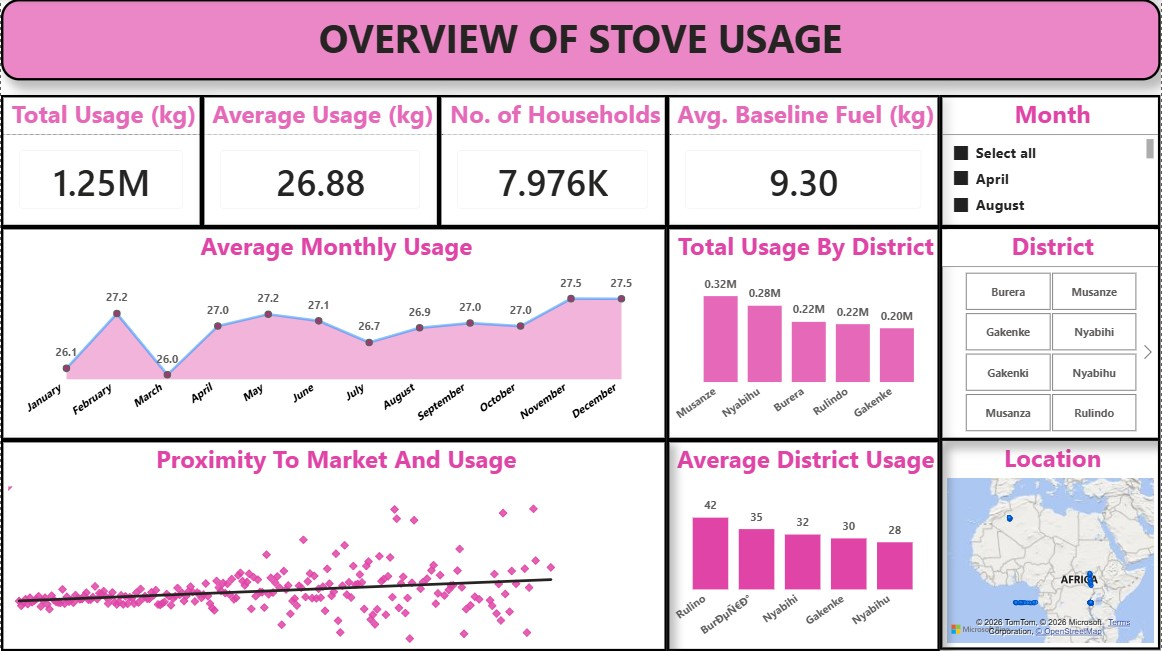

The page's visual inventory and layout, read from the dashboard file:
{"tool":"powerbi","page":{"name":"Dashboard","canvas":[1280,720],"ordinal":0},"visuals":[{"type":"textbox","box":[0,0,1280.5,90],"z":0},{"type":"cardVisual","title":"Total Usage (kg)","fields":{"Data":["Sum(stove_usage_fact.usage)"]},"box":[0,106,222,145.8],"z":1000},{"type":"cardVisual","title":"Average Usage (kg)","fields":{"Data":["Avg(stove_usage_fact.usage)"]},"box":[222,106,261.7,145.8],"z":2000},{"type":"cardVisual","title":"No. of Households","fields":{"Data":["Count(stove_usage_fact.household_id)"]},"box":[483.7,106,251.8,145.8],"z":3000},{"type":"cardVisual","title":"Avg. Baseline Fuel (kg)","fields":{"Data":["Avg(household.baseline_fuel_kg_person_week)"]},"box":[735.5,106,301.5,145.8],"z":4000},{"type":"lineChart","title":"Average Monthly Usage","fields":{"Category":["date.Date.Variation.Date Hierarchy.Month"],"Y2":["Avg(stove_usage_fact.usage)"]},"box":[0,251.8,735.5,235.2],"z":5000},{"type":"clusteredColumnChart","title":"Total Usage By District","fields":{"Category":["location.district"],"Y":["Sum(stove_usage_fact.usage)"]},"box":[735.5,251.8,301.5,235.2],"z":6000},{"type":"map","title":"Location","fields":{"Y":["location.latitude"],"X":["location.longitude"]},"box":[1037,485.3,243.5,233.6],"z":7000},{"type":"slicer","title":"Month","fields":{"Values":["date.Month"]},"box":[1037,106,243.5,145.8],"z":8000},{"type":"slicer","title":"District","fields":{"Values":["location.district"]},"box":[1037,251.8,243.5,235.2],"z":9000},{"type":"clusteredColumnChart","title":"Average District Usage","fields":{"Category":["location.district"],"Y":["Avg(stove_usage_fact.usage)"]},"box":[735,487,301,233],"z":10000},{"type":"scatterChart","title":"Proximity To Market And Usage","fields":{"X":["location.distance_to_market_km"],"Y":["Avg(stove_usage_fact.usage)"]},"box":[0,487,735,233],"z":11000}]}

Visuals, with their boxes in screenshot pixels (x1, y1, x2, y2), scaled from the page's 1280x720 canvas onto the 1162x651 screenshot:
textbox: 0,0,1161,81
"Total Usage (kg)" cardVisual: 0,96,202,228
"Average Usage (kg)" cardVisual: 202,96,439,228
"No. of Households" cardVisual: 439,96,668,228
"Avg. Baseline Fuel (kg)" cardVisual: 668,96,941,228
"Average Monthly Usage" lineChart: 0,228,668,440
"Total Usage By District" clusteredColumnChart: 668,228,941,440
"Location" map: 941,439,1161,650
"Month" slicer: 941,96,1161,228
"District" slicer: 941,228,1161,440
"Average District Usage" clusteredColumnChart: 667,440,940,650
"Proximity To Market And Usage" scatterChart: 0,440,667,650
